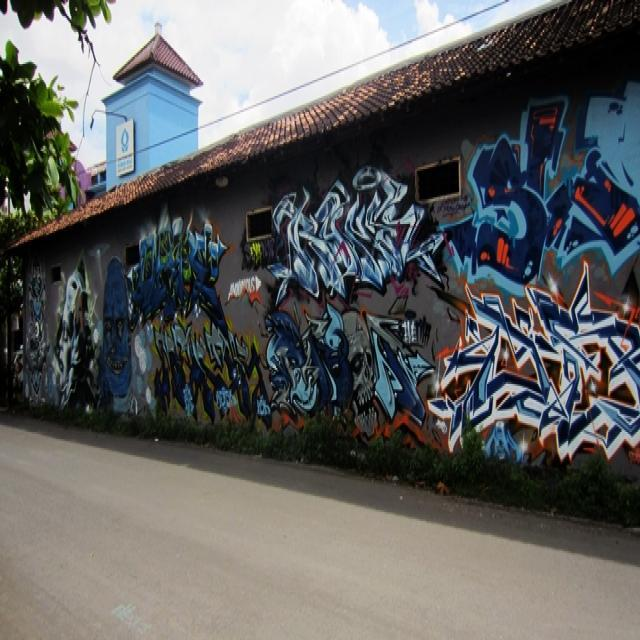-: (430, 256, 640, 463), (446, 85, 640, 272), (272, 165, 448, 308), (262, 312, 430, 432), (129, 206, 229, 340), (152, 318, 266, 427), (22, 262, 94, 410), (104, 256, 130, 397), (229, 277, 262, 310)
